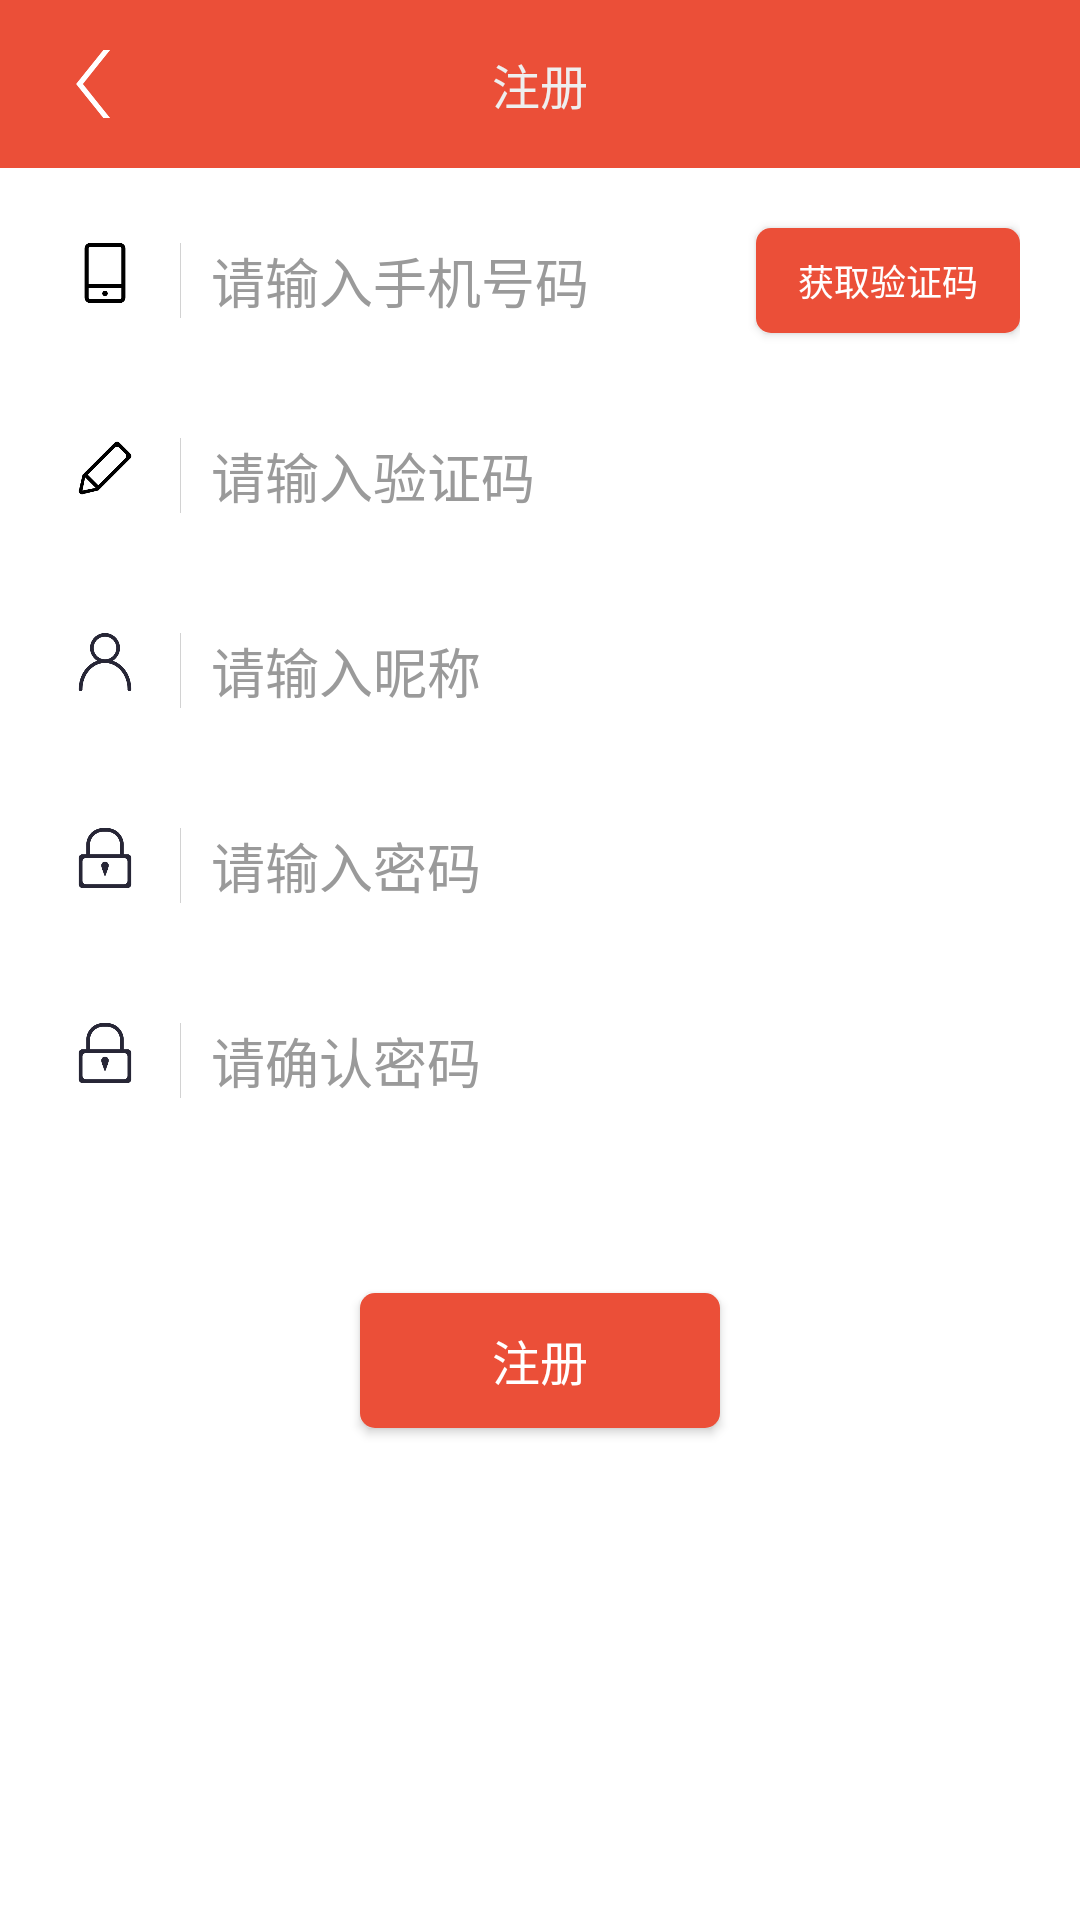

Where to tap for icons on this 1080×1920 app screen, as point (x, y):
account: point (105, 662)
edit: point (105, 468)
phone: point (105, 273)
return arrow: point (93, 84)
